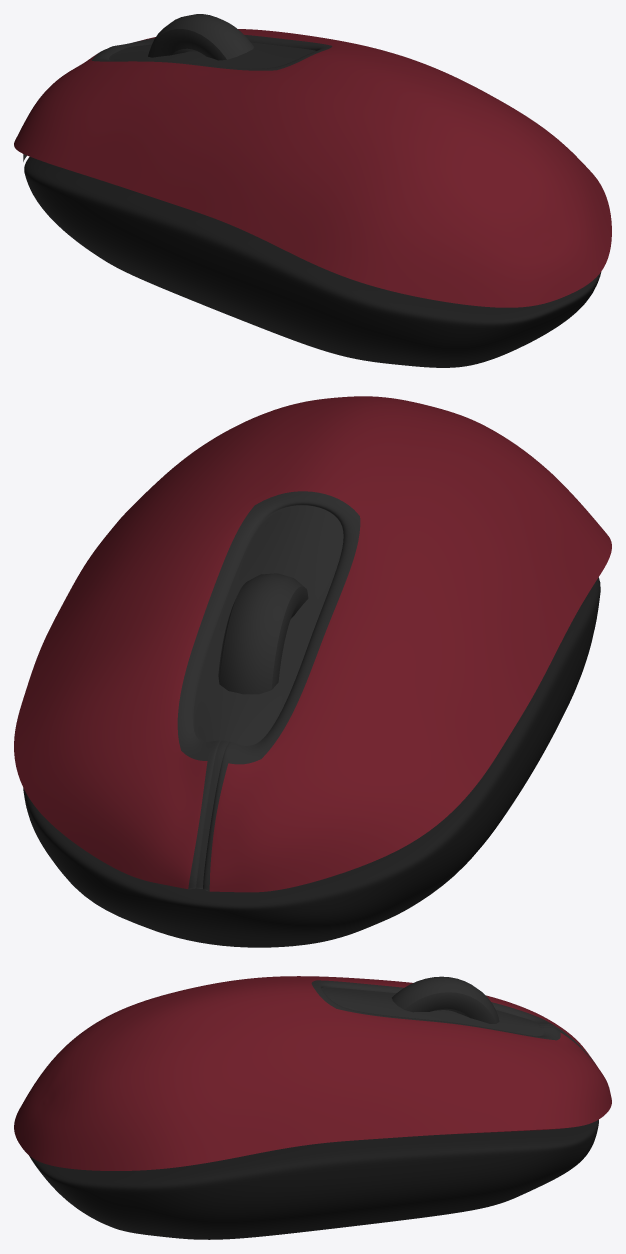
Rendered from mouse.glb.
3 renders of one model, top to bottom at view 1: azimuth 30°, elevation 25°; view 2: azimuth 150°, elevation 25°; view 3: azimuth 270°, elevation 25°, orthographic. The views are drawn at different scales.
Parts seen in each view (by area): view 1: Torus; view 2: Torus; view 3: Torus.
Part boxes in pixels (x1,y1,x2,y2): Torus: (14,14,611,367); Torus: (14,396,611,947); Torus: (14,976,611,1239).
Size of the model in its own units: 0.3831 by 0.213 by 0.5767.
